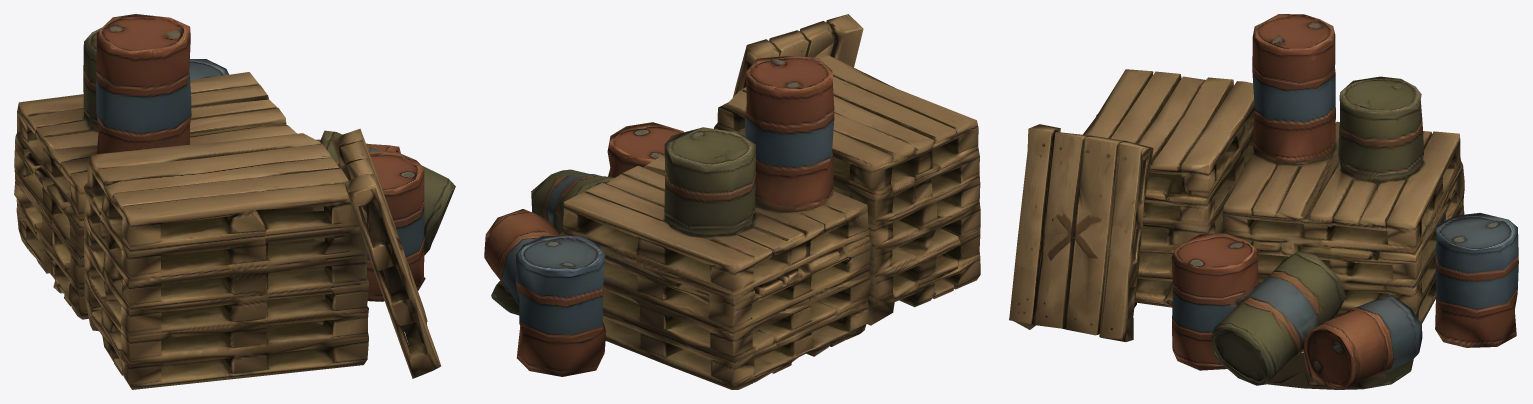
The model's file is pallets.fbx.
The picture shows the model from 3 angles, left to right: view 1: azimuth 30°, elevation 25°; view 2: azimuth 150°, elevation 25°; view 3: azimuth 270°, elevation 25°; orthographic projection. The views are drawn at different scales.
Visible parts, largest first — view 1: tripo_node_1fc3dc0a; view 2: tripo_node_1fc3dc0a; view 3: tripo_node_1fc3dc0a.
Part boxes in pixels (left/top/right/bottom): tripo_node_1fc3dc0a: left=14, top=14, right=455, bottom=389; tripo_node_1fc3dc0a: left=484, top=14, right=980, bottom=389; tripo_node_1fc3dc0a: left=1009, top=14, right=1518, bottom=389.
Size of the model in its own units: 0.8032 by 0.5095 by 0.9791.
